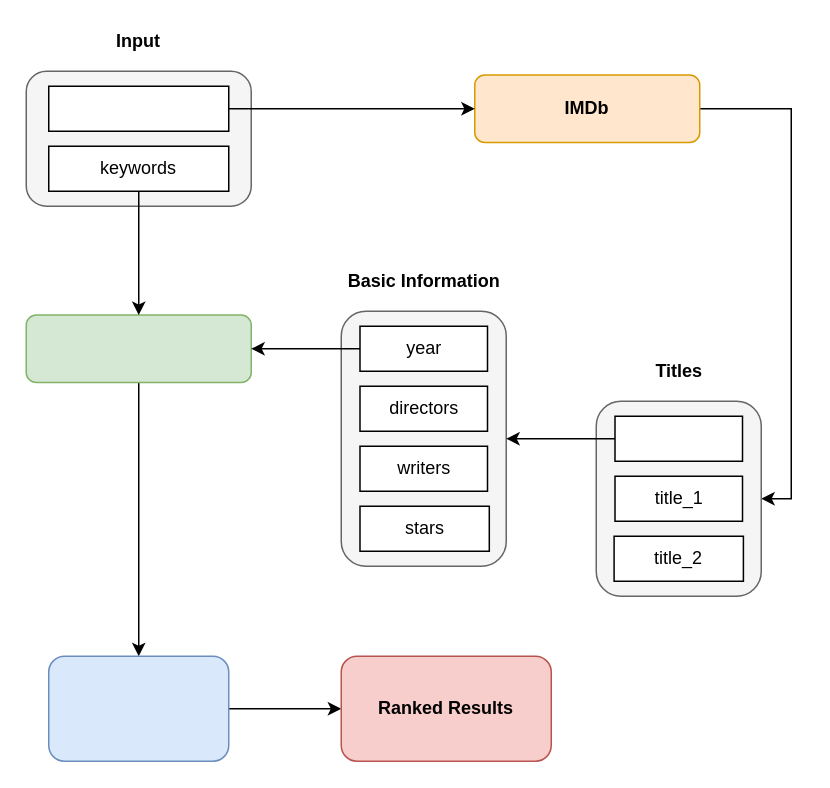
Some shapes in this 830 by 788 pixel diagram are drawn without their labels. Each missing label, with the box of its shape:
film_name: (47, 85, 229, 131)
Google: (25, 314, 251, 382)
Raw Results: (47, 655, 229, 761)
title_0: (614, 415, 742, 461)
